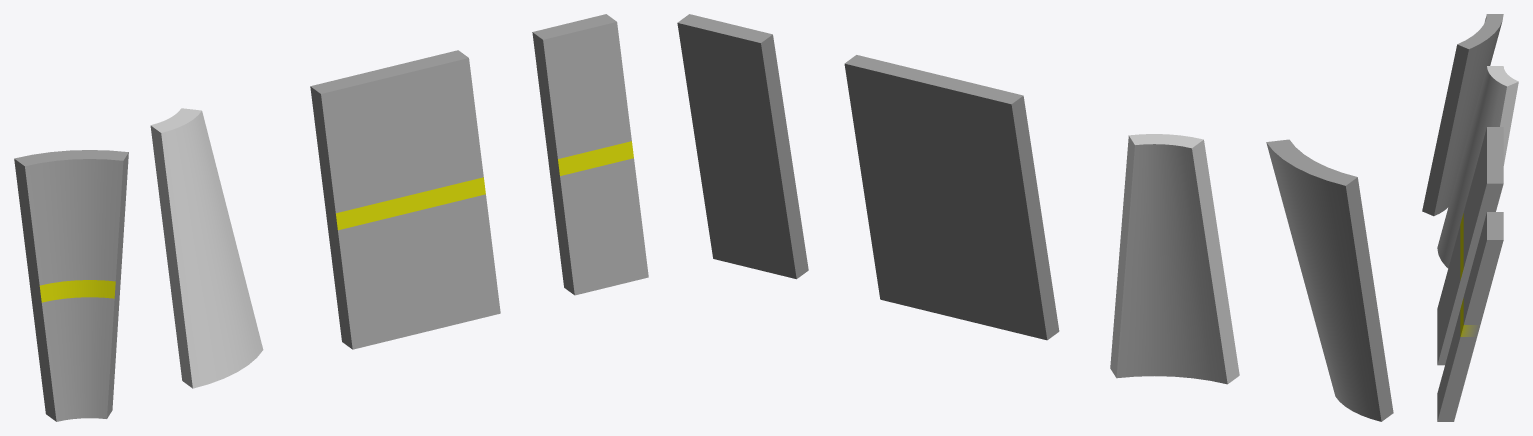
File: Walls.fbx
3 views of the same model, side by side, from view 1: azimuth 30°, elevation 25°; view 2: azimuth 150°, elevation 25°; view 3: azimuth 270°, elevation 25° (orthographic). The views are drawn at different scales.
Parts seen in each view (by area): view 1: Wall_Straight_4, Wall_Concave_45, Wall_Straight_2, Wall_Convex_45; view 2: Wall_Straight_4, Wall_Convex_45, Wall_Straight_2, Wall_Concave_45; view 3: Wall_Concave_45, Wall_Straight_4, Wall_Straight_2, Wall_Convex_45.
Boxes of the visible parts, x1,y1,x2,y2 form: Wall_Straight_4: [310, 50, 500, 349]; Wall_Concave_45: [14, 150, 128, 421]; Wall_Straight_2: [532, 14, 648, 295]; Wall_Convex_45: [150, 108, 263, 388]; Wall_Straight_4: [844, 55, 1059, 340]; Wall_Convex_45: [1110, 134, 1239, 384]; Wall_Straight_2: [677, 14, 808, 279]; Wall_Concave_45: [1266, 139, 1393, 421]; Wall_Concave_45: [1422, 14, 1503, 216]; Wall_Straight_4: [1437, 127, 1503, 365]; Wall_Straight_2: [1437, 212, 1503, 421]; Wall_Convex_45: [1437, 66, 1518, 268].
Bounding box in the file's own units: 1600 × 600 × 290.
